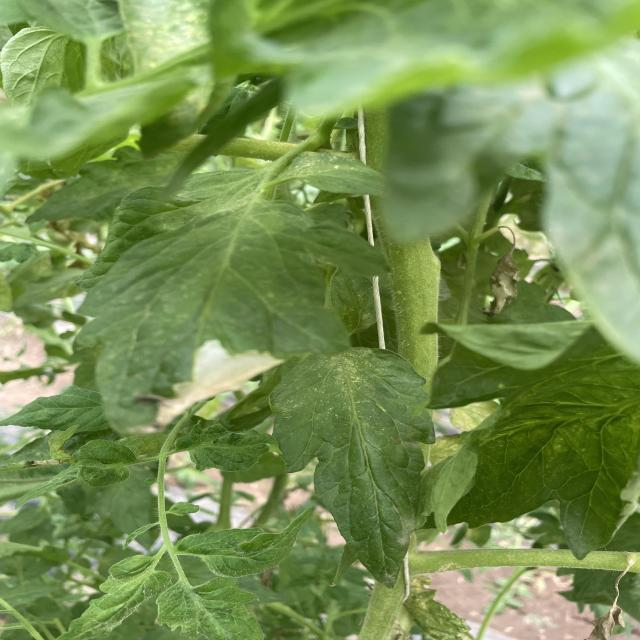Tuta absoluta: (136, 314, 285, 431)
